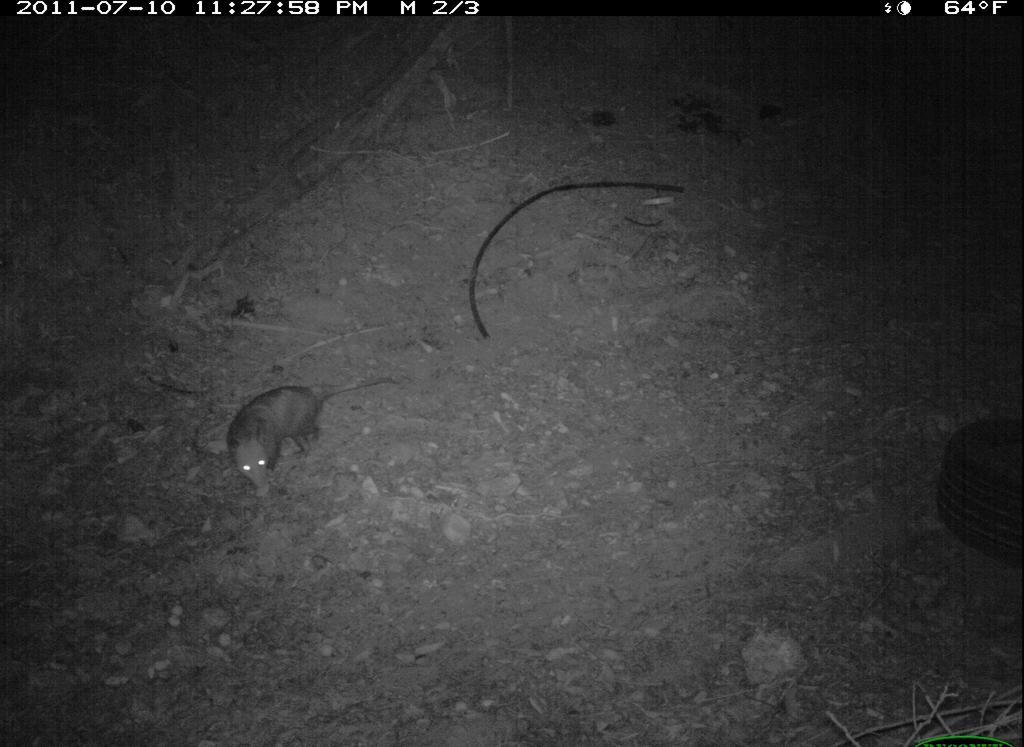opossum: (221, 370, 401, 497)
